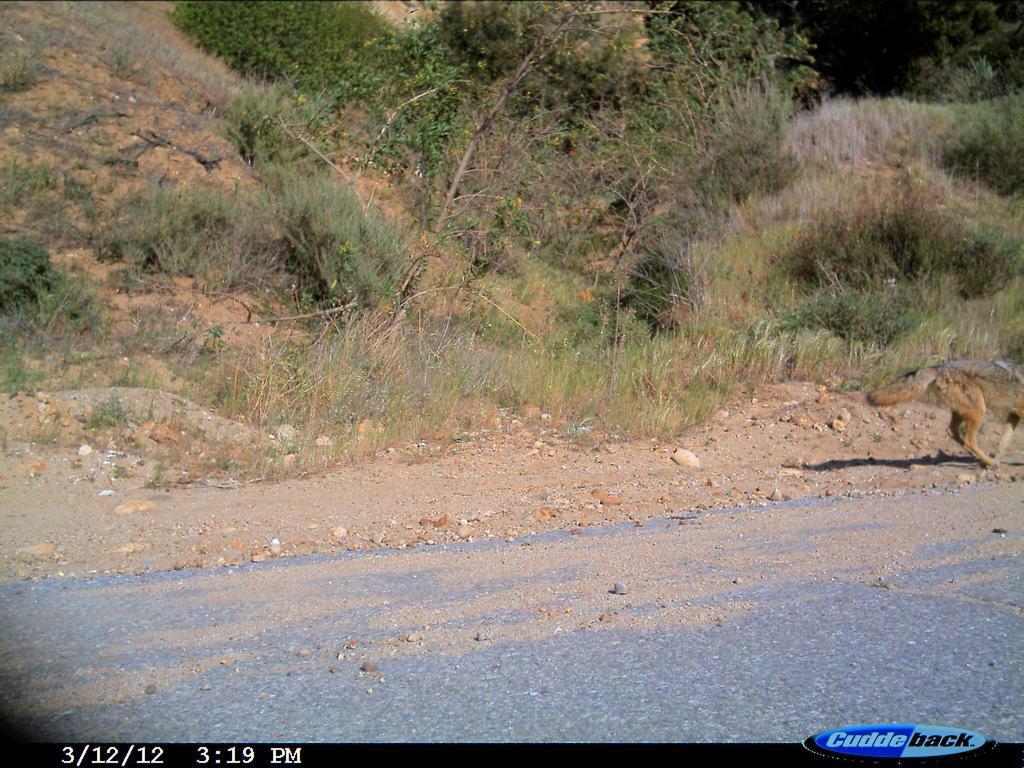coyote: (862, 354, 1023, 470)
